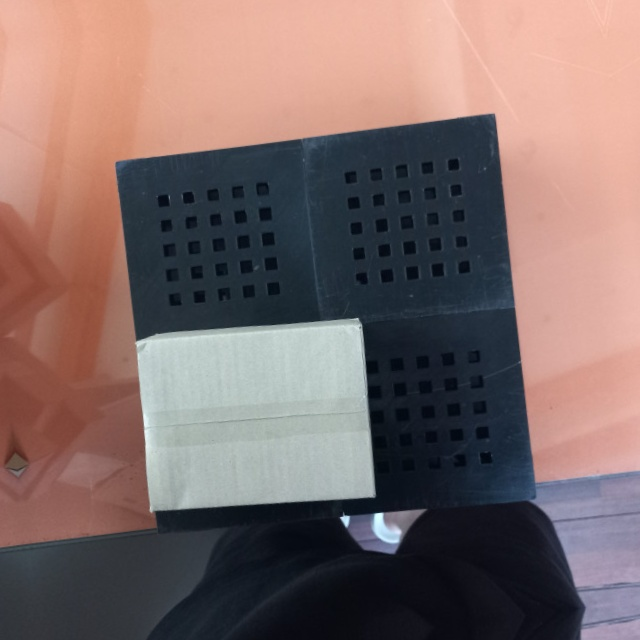box: (133, 317, 373, 520)
pallet: (104, 105, 541, 529)
